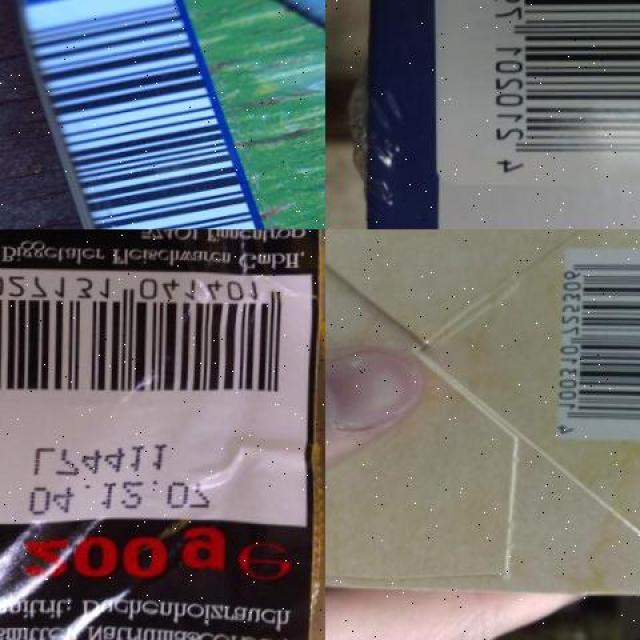Barcode: (5, 0, 307, 229), (0, 265, 308, 412), (476, 0, 640, 181), (560, 245, 640, 440)
